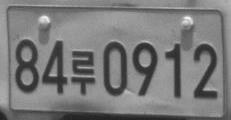0: (102, 40, 127, 97)
1: (163, 42, 189, 97)
2: (193, 42, 218, 99)
4: (42, 39, 67, 94)
8: (14, 37, 39, 93)
9: (132, 41, 158, 96)
루: (70, 49, 95, 95)
